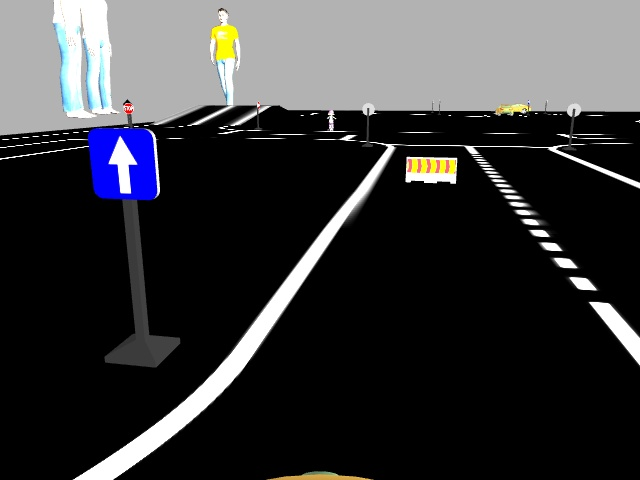ClosedRoadStand: (405, 158, 455, 182)
OneWay: (88, 129, 159, 198)
